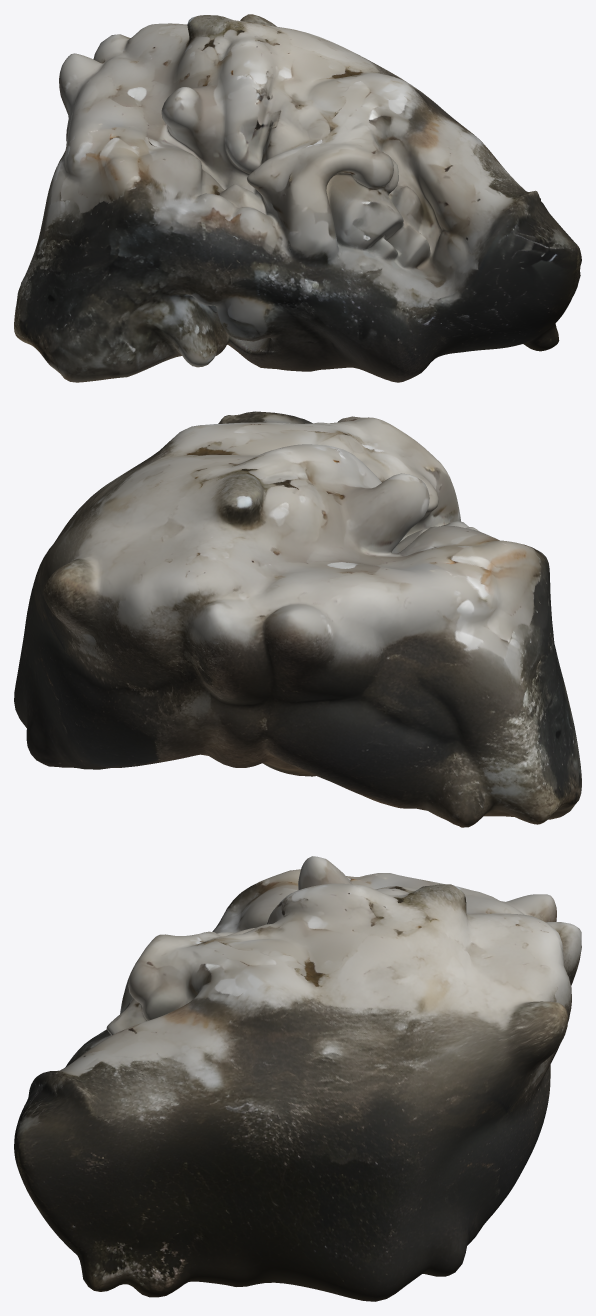
The picture shows the model from 3 angles, top to bottom: view 1: azimuth 30°, elevation 25°; view 2: azimuth 150°, elevation 25°; view 3: azimuth 270°, elevation 25°; orthographic projection. The views are drawn at different scales.
Parts seen in each view (by area): view 1: model; view 2: model; view 3: model.
Boxes of the visible parts, box(x1,y1,x2,y2) form: model: box(14, 14, 581, 382); model: box(14, 411, 581, 827); model: box(14, 856, 581, 1301).
Size of the model in its own units: 1.78 by 1.06 by 1.77.
Materials: 1 (1 with a texture image).
